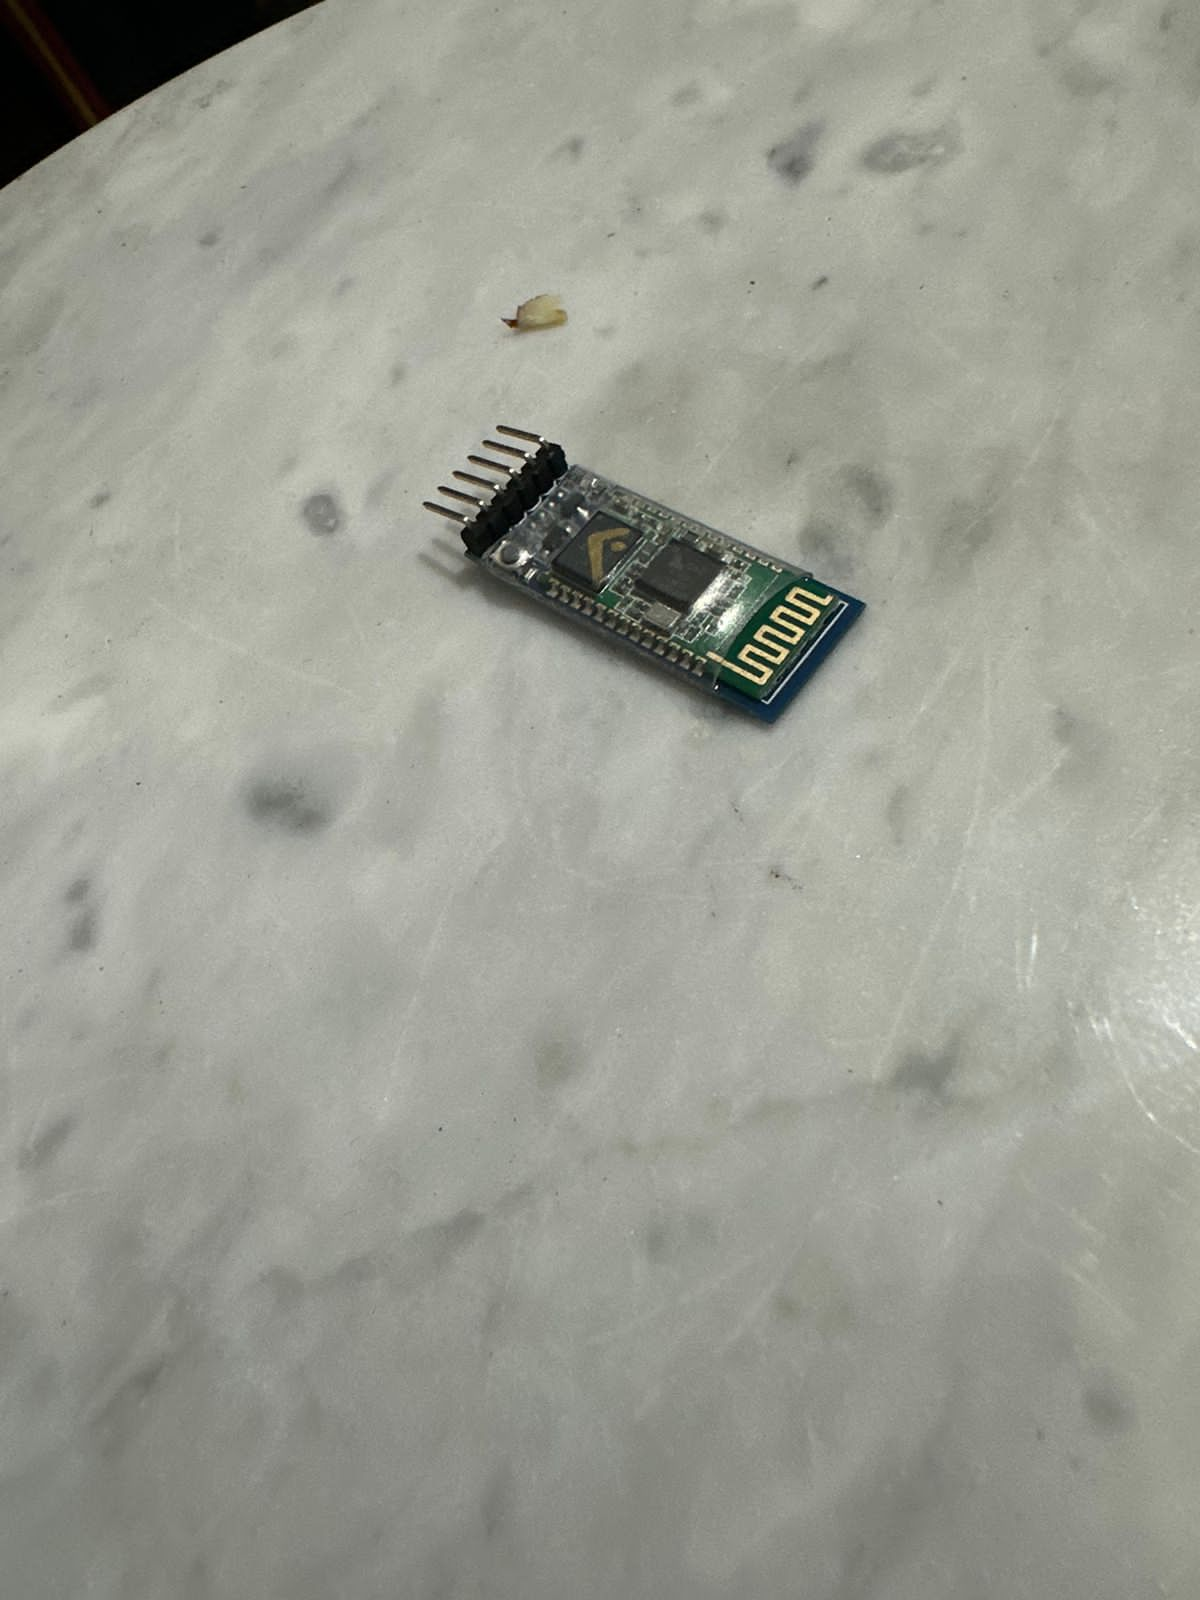module-bluetooth: (410, 414, 880, 713)
